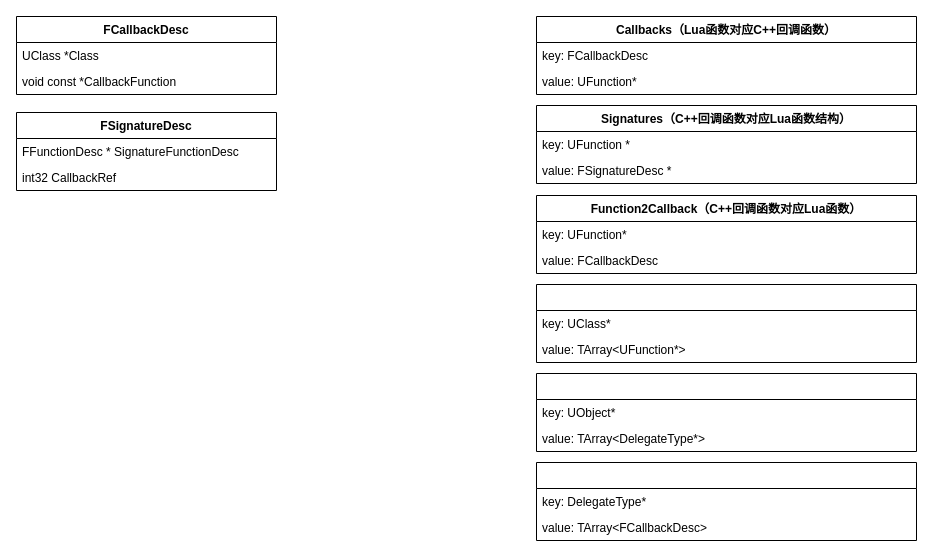
The diagram is 933 pixels wide and 557 high, and some of its shapes have lost their labels. The shapes that lost their labels are listed below. From the top down, each one's box as (x1, y1, x2, y2) in pixels, then its label:
(536, 284, 916, 362): Class2Functions（UClass增加了哪些C++回调函数）
(536, 372, 916, 452): Object2Delegates(Object用了的哪些delegate)
(536, 462, 916, 540): MutiDelegates2Callback（delegate绑定了哪些lua函数）
